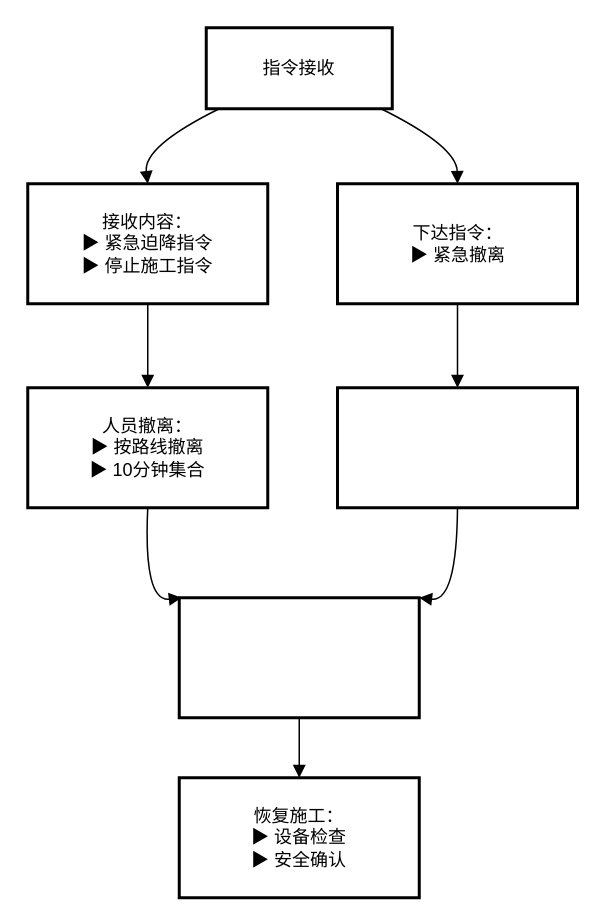
This 605x924 diagram has some shape labels left out. Here are the shapes that lost their labels. From the top down, the centre of each, then its label:
[456,447]: 物资处理： ▶ 设备收拢 ▶ 设警示标志
[298,657]: 现场警戒： ▶ 设警戒带 ▶ 保持联络
